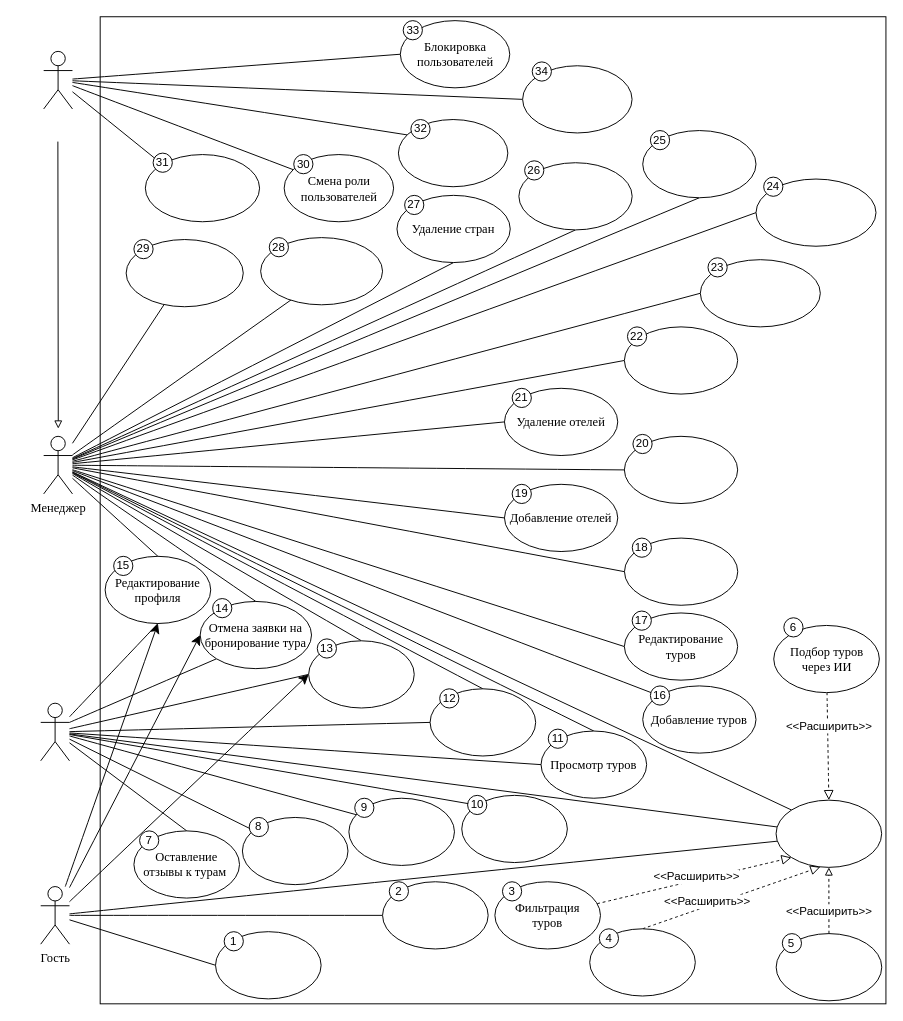
Image size: 903x1021. Some labels were removed from this diagram. Each missing label, with the box of its shape:
Авторизация: (382, 881, 488, 949)
Администратор: (43, 50, 72, 109)
Добавление пунктов отправлений: (623, 326, 738, 394)
Добавление стран: (642, 130, 756, 198)
Оплата забронированного тура: (348, 797, 454, 865)
Подача заявки на бронирование тура: (241, 816, 348, 885)
Подбор туров: (775, 799, 882, 867)
Подбор туров по опросу: (775, 933, 882, 1001)
Подтверждение заявки на бронь тура: (125, 239, 243, 307)
Пользователь: (40, 702, 70, 761)
Просмотр истории бронирований: (461, 794, 567, 863)
Просмотр отелей: (429, 688, 536, 756)
Просмотр стран: (308, 640, 414, 708)
Разблокировка пользователей: (397, 119, 508, 187)
Регистрация: (215, 931, 321, 999)
Редактирование отелей: (623, 435, 738, 504)
Редактирование пунктов отправлений: (699, 259, 820, 327)
Редактирование стран: (518, 162, 632, 230)
Смена цены забронированного тура: (260, 237, 383, 305)
Сортировка туров: (589, 928, 695, 996)
Удаление отзывов к турам: (144, 154, 260, 222)
Удаление пользователей: (522, 65, 632, 133)
Удаление пунктов отправлений: (755, 178, 876, 246)
Удаление туров: (624, 537, 738, 605)
